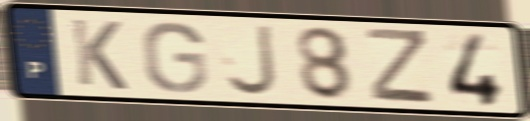4: (445, 29, 505, 109)
8: (293, 24, 354, 103)
G: (139, 19, 210, 96)
J: (223, 22, 281, 100)
K: (68, 16, 130, 93)
Z: (364, 25, 437, 107)
